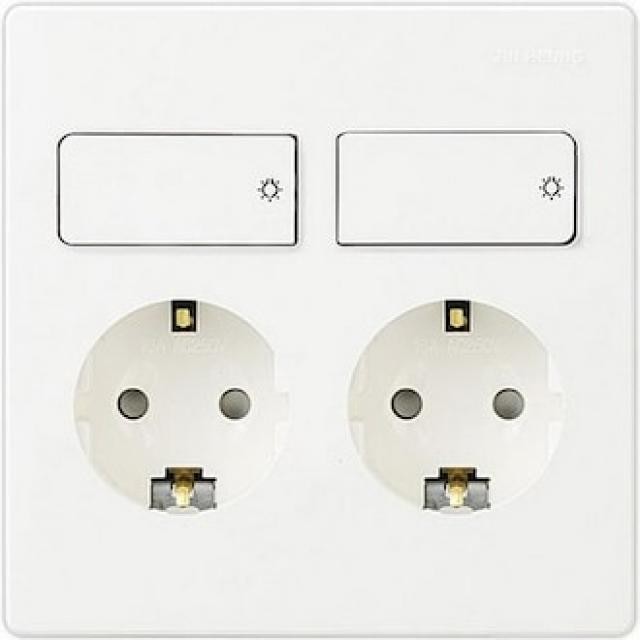typeb: (329, 285, 601, 544), (67, 284, 300, 540)
